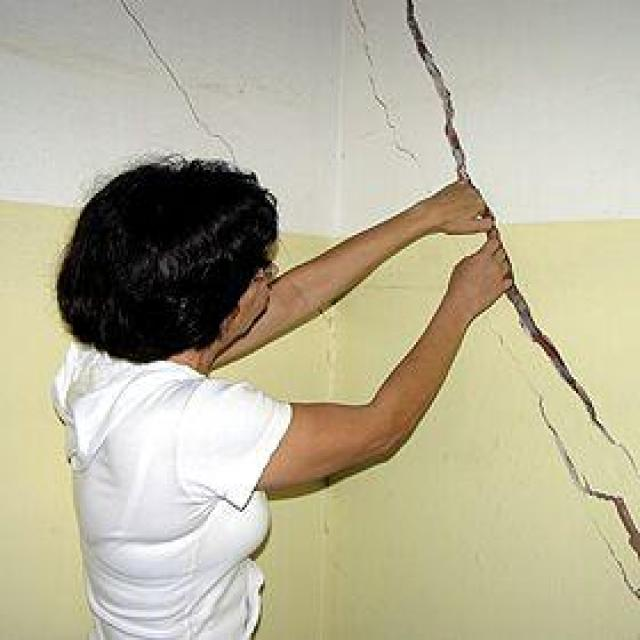crack: (544, 413, 638, 557), (504, 286, 599, 424), (406, 2, 466, 176)
